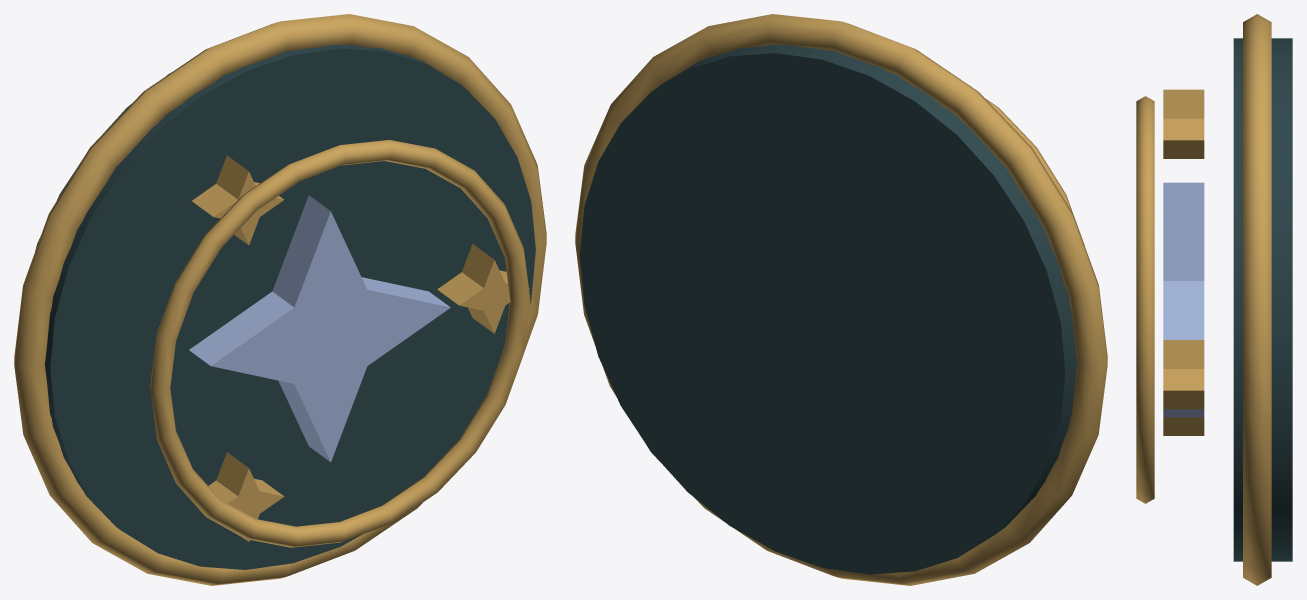
File: skill.fbx
3 renders of one model, left to right at view 1: azimuth 30°, elevation 25°; view 2: azimuth 150°, elevation 25°; view 3: azimuth 270°, elevation 25°, orthographic. The views are drawn at different scales.
Parts seen in each view (by area): view 1: skill; view 2: skill; view 3: skill.
Boxes of the visible parts, x1,y1,x2,y2 form: skill: (14,14,546,585); skill: (575,14,1107,585); skill: (1136,14,1292,585).
Size of the model in its own units: 0.976 by 0.976 by 0.2656.
